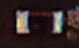COMP: (13, 7, 65, 36)
STAN: (67, 6, 79, 26), (67, 29, 78, 42)
